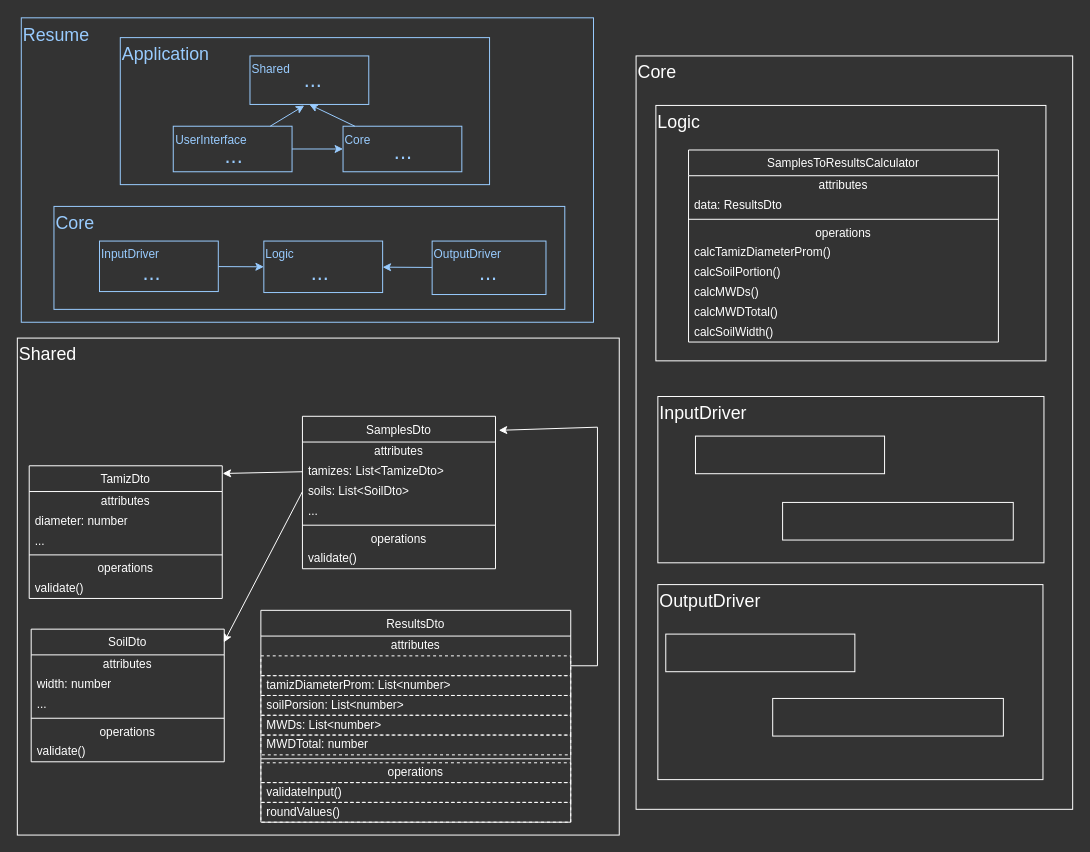
The diagram is 1090 pixels wide and 852 high, and some of its shapes have lost their labels. Here are the shapes that lost their labels. From the top down, the centre of each, then its label:
At (x=789, y=454): "FileToSamplesConverter".
At (x=897, y=520): "UserInterfaceToSamplesConverter".
At (x=415, y=665): "samples: SamplesDto".
At (x=760, y=652): "Results ToFileConverter".
At (x=887, y=716): "Results ToUserInteraceConverter".
